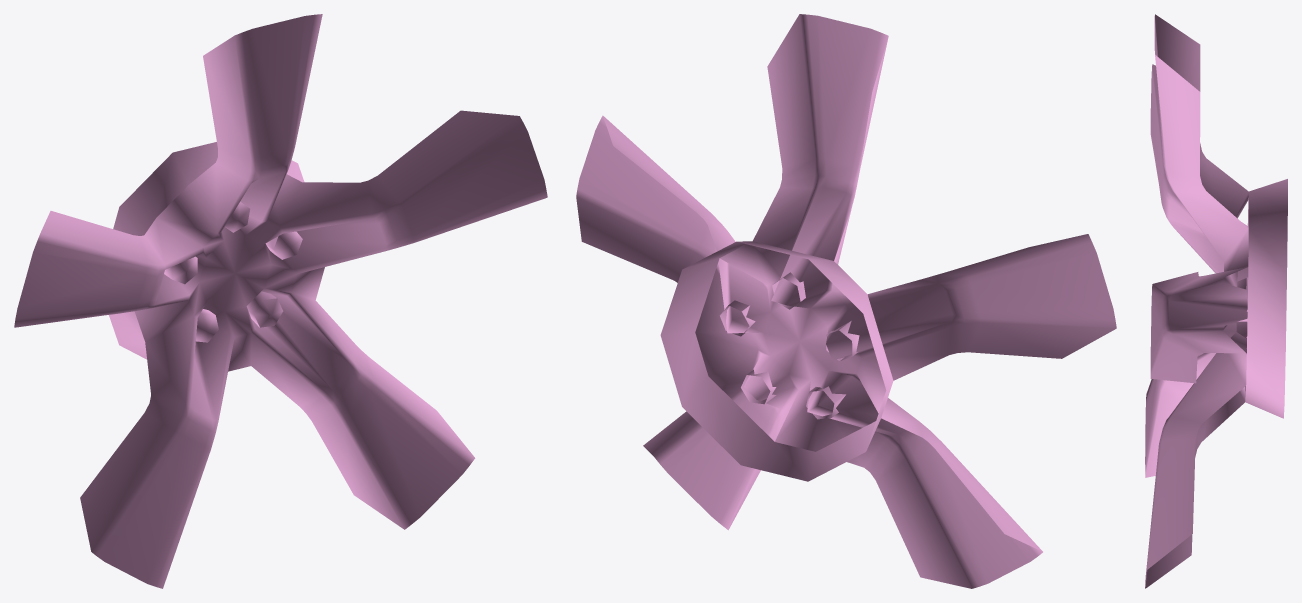
The model's file is Rin_der.obj.
3 renders of one model, left to right at view 1: azimuth 30°, elevation 25°; view 2: azimuth 150°, elevation 25°; view 3: azimuth 270°, elevation 25°, orthographic. The views are drawn at different scales.
Parts seen in each view (by area): view 1: Rin; view 2: Rin; view 3: Rin.
Boxes of the visible parts, x1,y1,x2,y2 form: Rin: (14,14,547,588); Rin: (576,14,1116,588); Rin: (1145,14,1287,588).
Bounding box in the file's own units: 0.5677 × 0.5424 × 0.1399.
